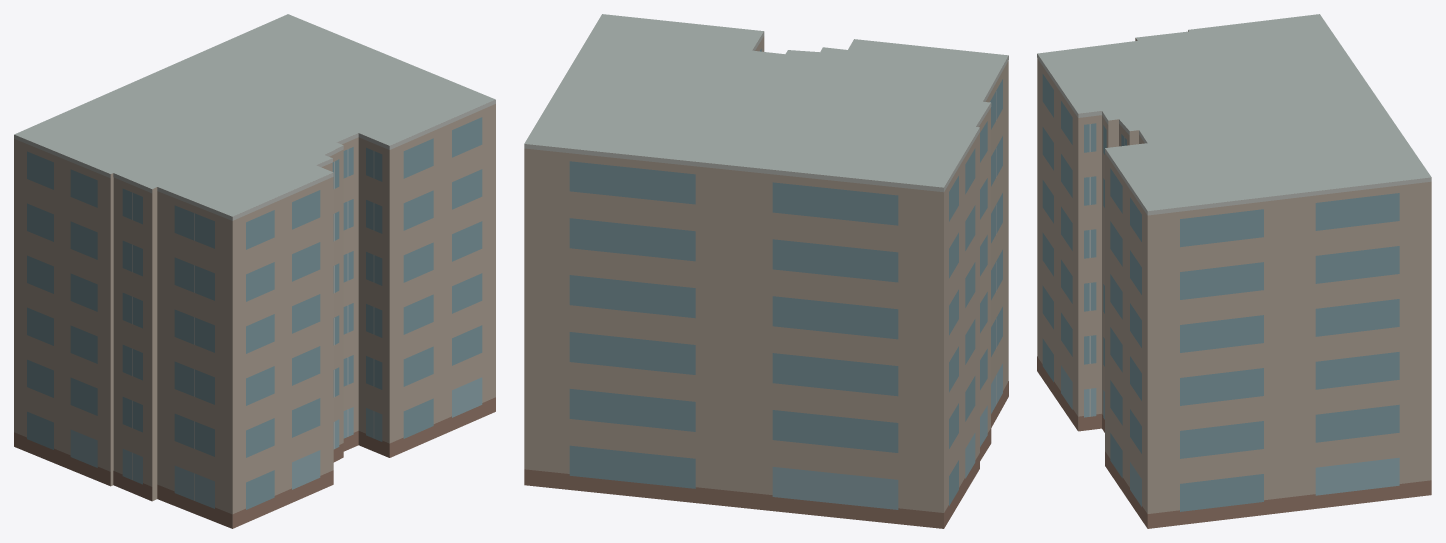
Rendered from survey-upis-32895996.glb.
The picture shows the model from 3 angles, left to right: view 1: azimuth 30°, elevation 25°; view 2: azimuth 150°, elevation 25°; view 3: azimuth 270°, elevation 25°; orthographic projection. The views are drawn at different scales.
Parts seen in each view (by area): view 1: survey-upis-32895996.tmp; view 2: survey-upis-32895996.tmp; view 3: survey-upis-32895996.tmp.
Part boxes in pixels (box(x1,y1,x2,y2)): survey-upis-32895996.tmp: box(14, 14, 495, 528); survey-upis-32895996.tmp: box(524, 14, 1008, 528); survey-upis-32895996.tmp: box(1037, 14, 1431, 528).
Bounding box in the file's own units: 24.17 × 18.14 × 20.43.
